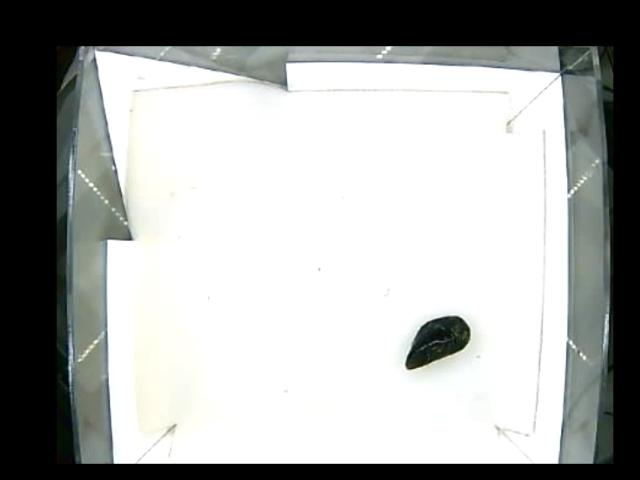Shell: (403, 315, 471, 368)
